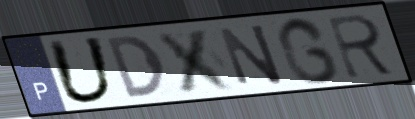D: (103, 33, 169, 101)
G: (273, 15, 342, 86)
N: (215, 21, 287, 87)
R: (325, 12, 400, 81)
U: (44, 35, 118, 107)
X: (152, 26, 240, 95)
